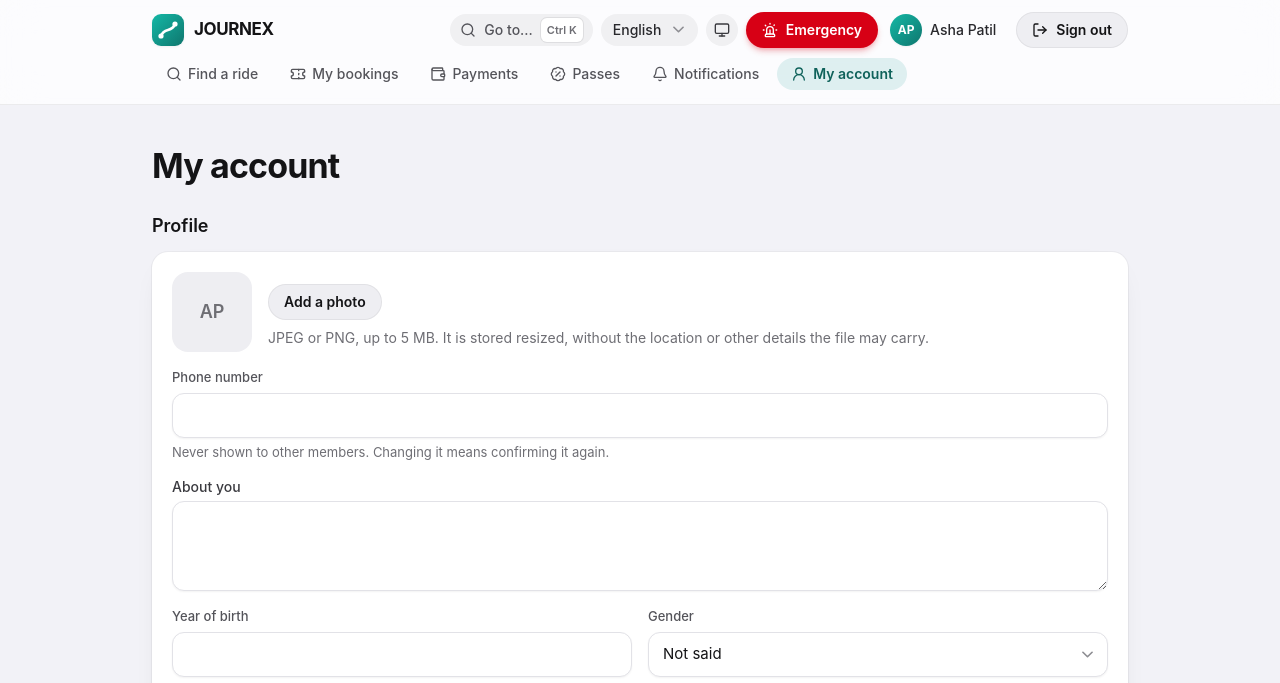
Test: my account › refuses a phone number that is not one without asking the server
Type "12345" into the field labelled "Phone number".
click(640, 415); type("12345")  # box [172,393,1108,438]
(page scrolled)
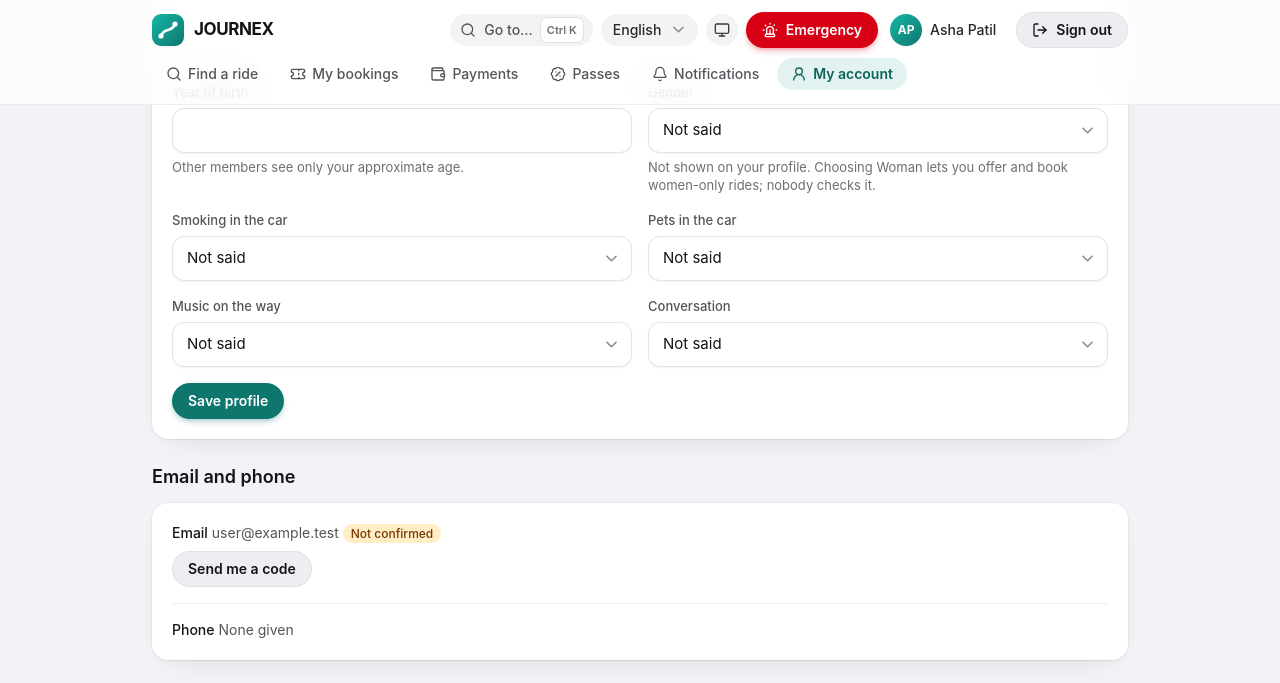
Click the button "Save profile".
click(228, 401)  # box [172,383,284,419]
(page scrolled)
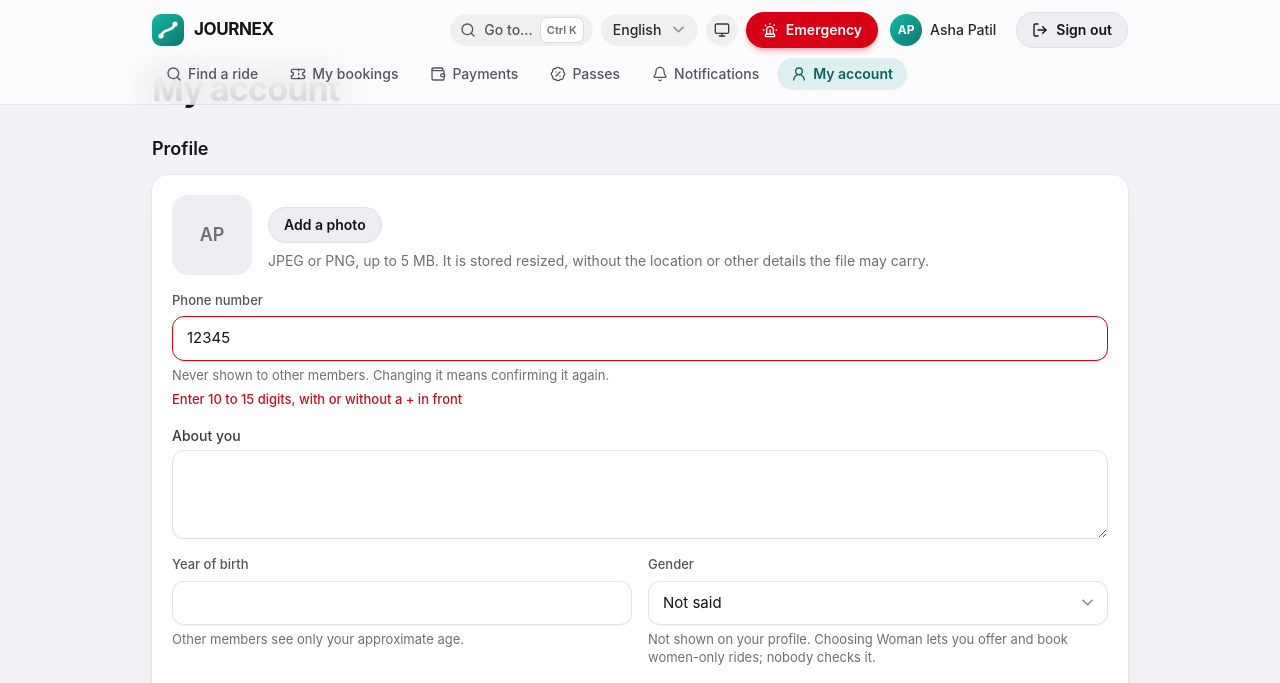
Check: the text "Enter 10 to 15 digits, with or without a + in front" is shown, box [172,391,462,407]
